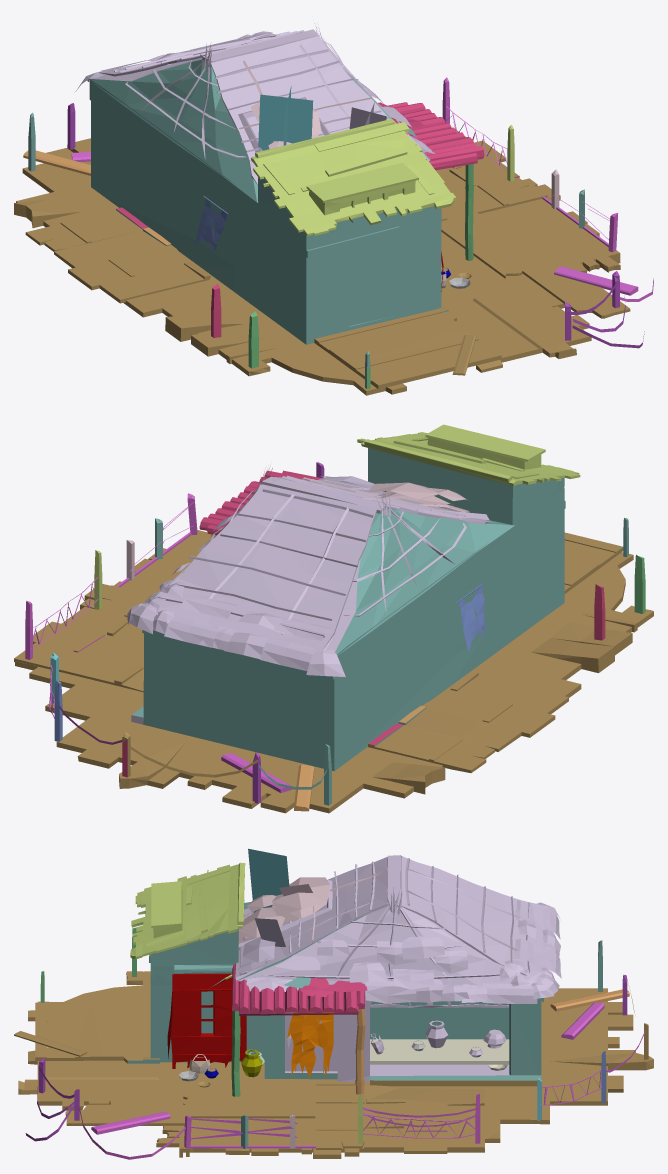
File: full_23.glb
The picture shows the model from 3 angles, top to bottom: view 1: azimuth 30°, elevation 25°; view 2: azimuth 150°, elevation 25°; view 3: azimuth 270°, elevation 25°; orthographic projection. The views are drawn at different scales.
Visible parts, largest first — view 1: world; view 2: world; view 3: world.
Boxes of the visible parts, x1,y1,x2,y2 form: world: [14, 23, 653, 395]; world: [14, 424, 653, 813]; world: [14, 848, 653, 1159].
Bounding box in the file's own units: 0.5695 × 0.2634 × 0.7786.
